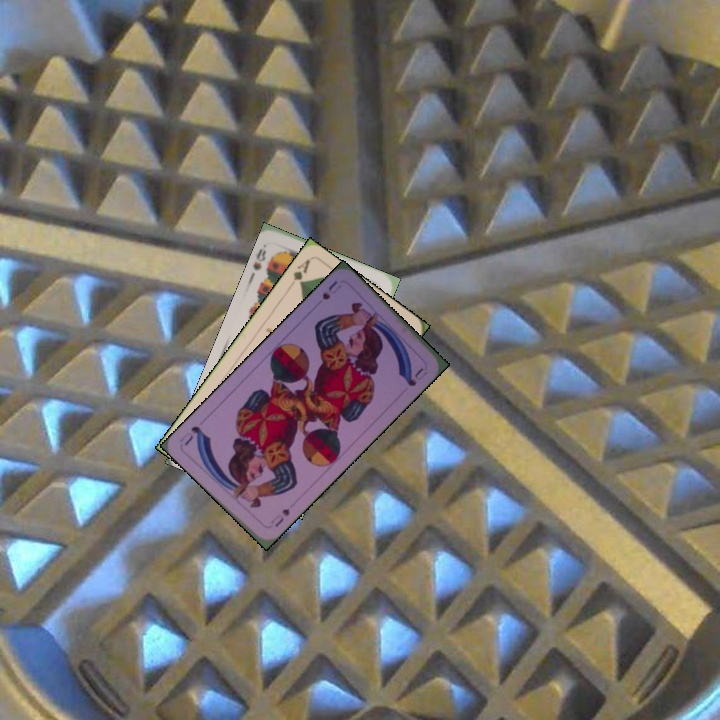GA: (289, 255, 312, 288)
S8: (249, 244, 269, 273)
SU: (318, 277, 344, 303), (267, 505, 292, 529)
